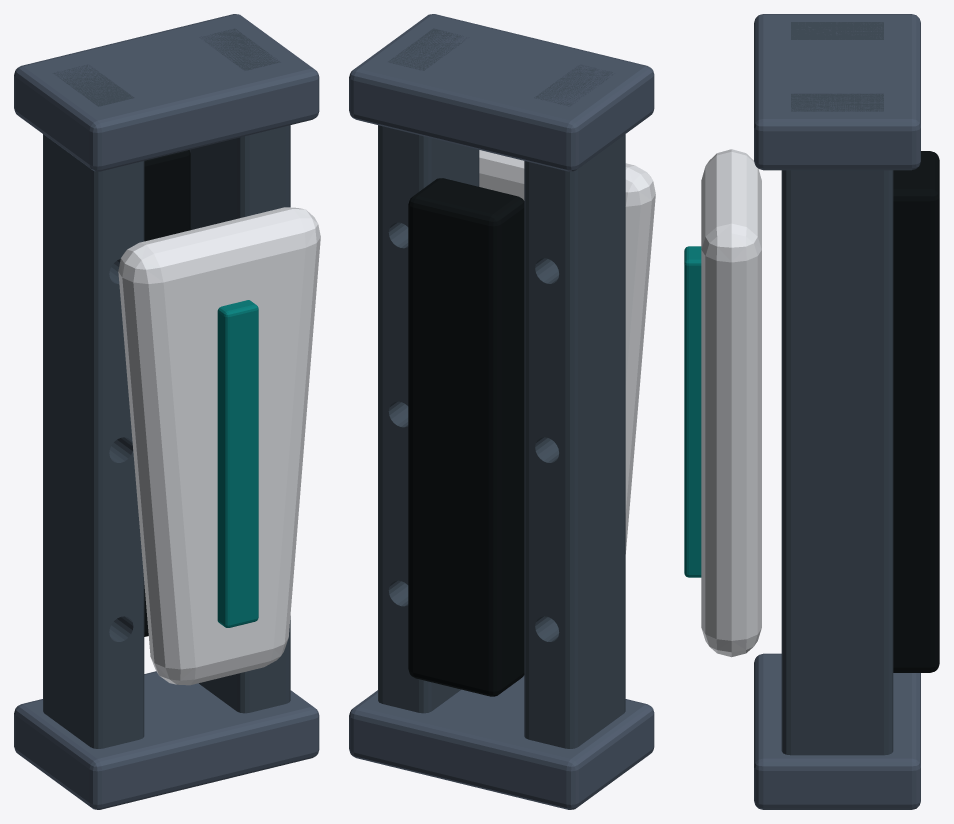
The model's file is modular_upper_arm_frame.obj.
3 views of the same model, side by side, from view 1: azimuth 30°, elevation 25°; view 2: azimuth 150°, elevation 25°; view 3: azimuth 270°, elevation 25° (orthographic).
Visible parts, largest first — view 1: modular_upper_arm_frame; view 2: modular_upper_arm_frame; view 3: modular_upper_arm_frame.
Boxes of the visible parts, left/top/right/bottom form: modular_upper_arm_frame: left=14, top=14, right=320, bottom=809; modular_upper_arm_frame: left=349, top=14, right=655, bottom=809; modular_upper_arm_frame: left=684, top=14, right=939, bottom=809.
Bounding box in the file's own units: 0.057 × 0.164 × 0.055.
